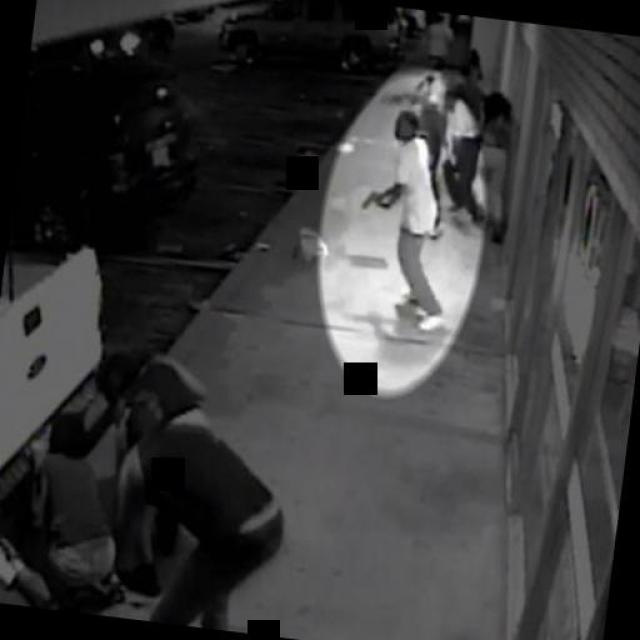gun: (358, 188, 382, 208)
